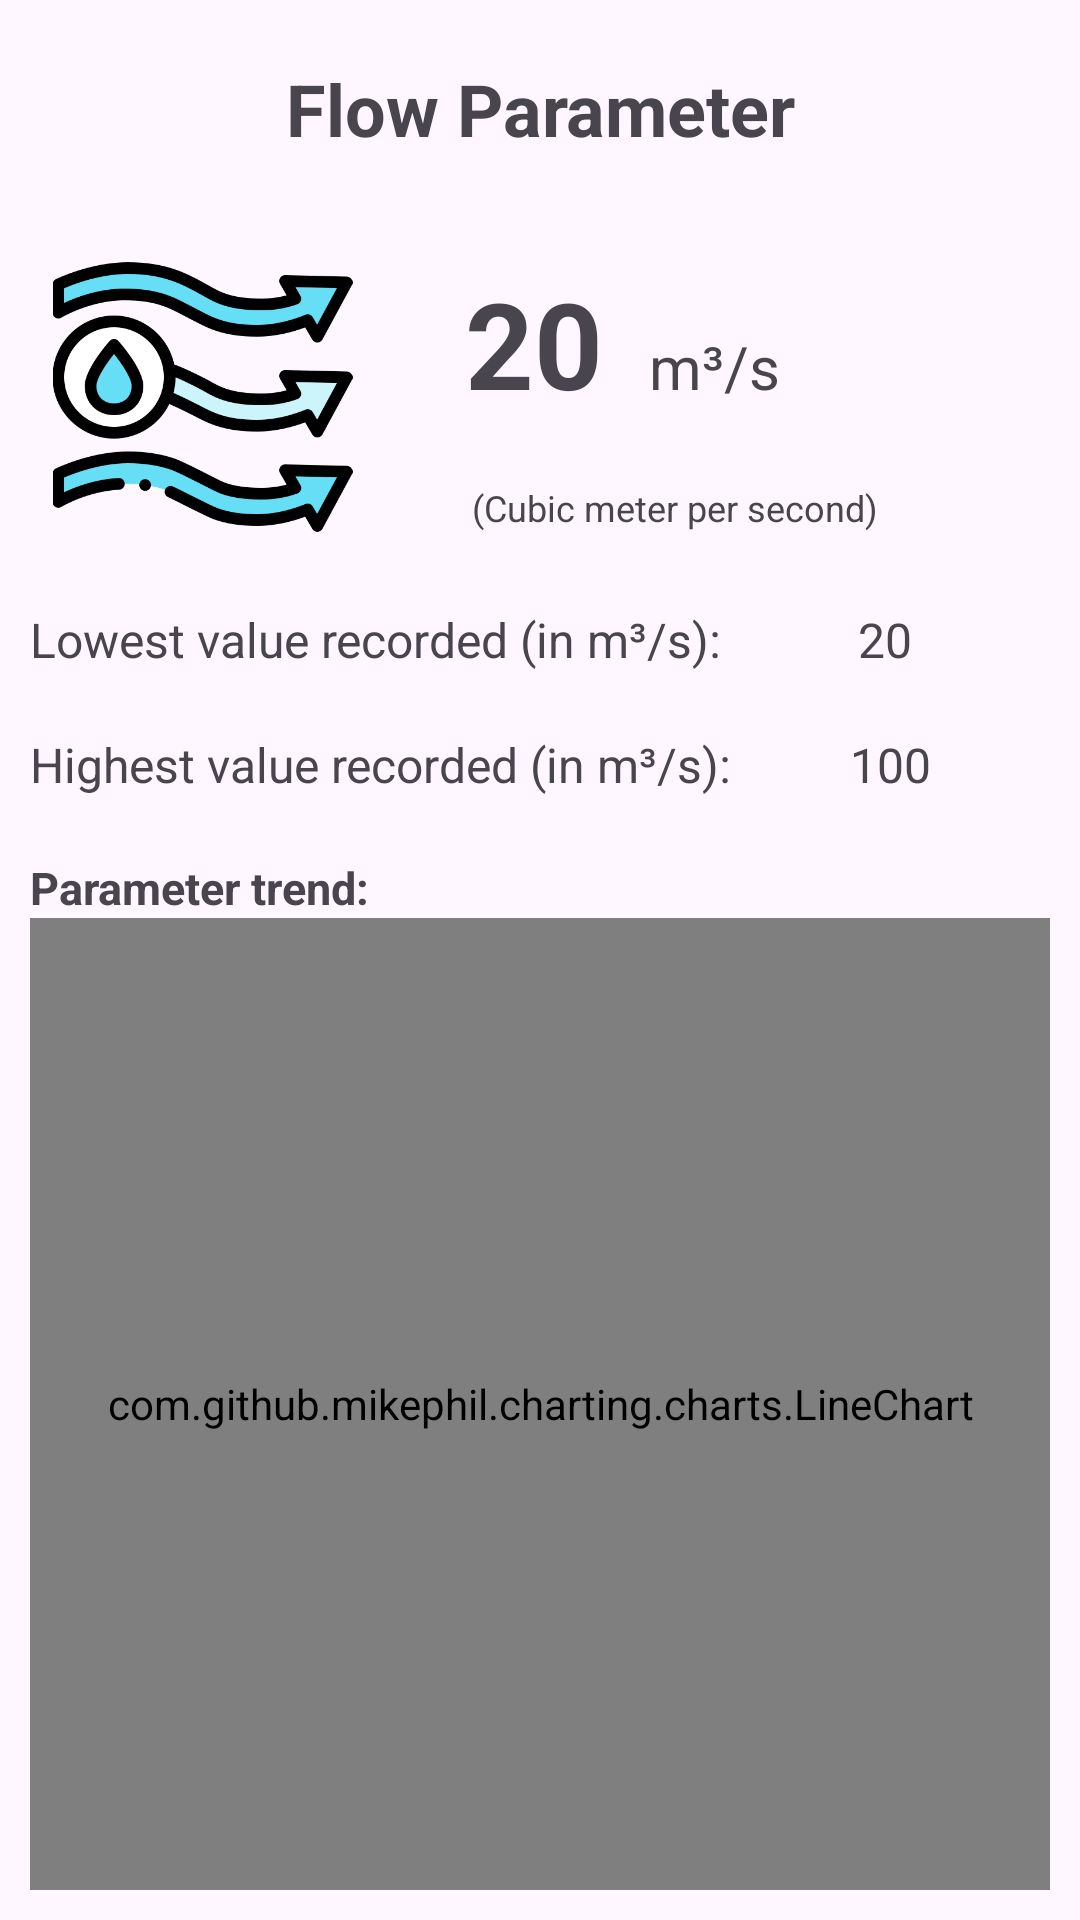

Locate icon controls on the screen. Image size 1080px x 1920px, boxes as [x1,y1,x2,y2].
flowimg: [53,262,353,532]
